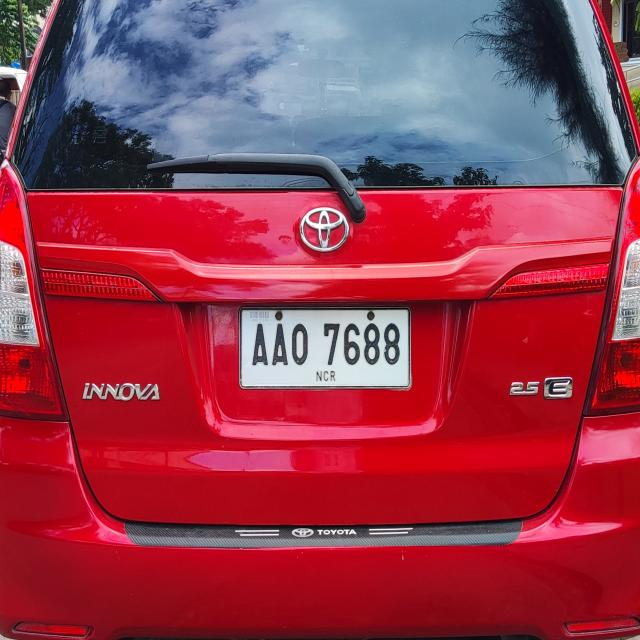plate: (238, 306, 412, 390)
